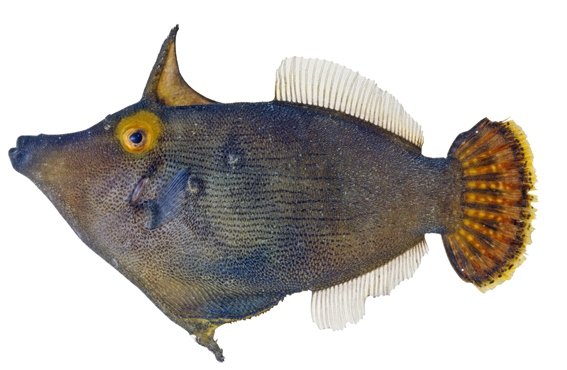fish: (8, 23, 539, 362)
